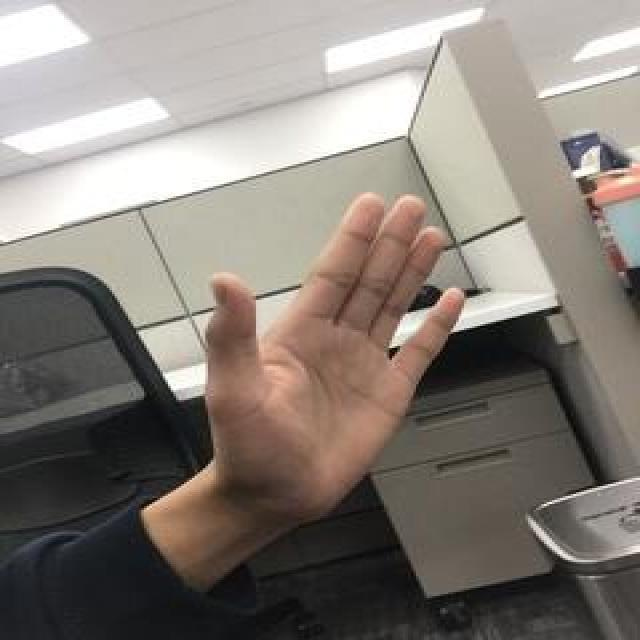hand: (200, 188, 472, 516)
